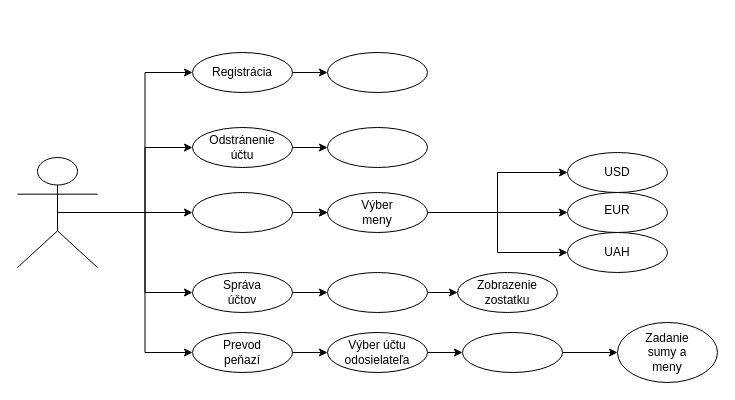
Image size: 735x400. Some labels were removed from this diagram. Each missing label, with the centre of its shape:
"Otvorenie účtu" goes at point (242, 212).
"Potvrdenie odstránenia" goes at point (377, 147).
"Používateľ" goes at point (57, 212).
"Vytvorenie účtu v systéme" goes at point (377, 72).
"Výber účtu príjemcu" goes at point (512, 352).
"Zoznam účtov" goes at point (377, 292).
